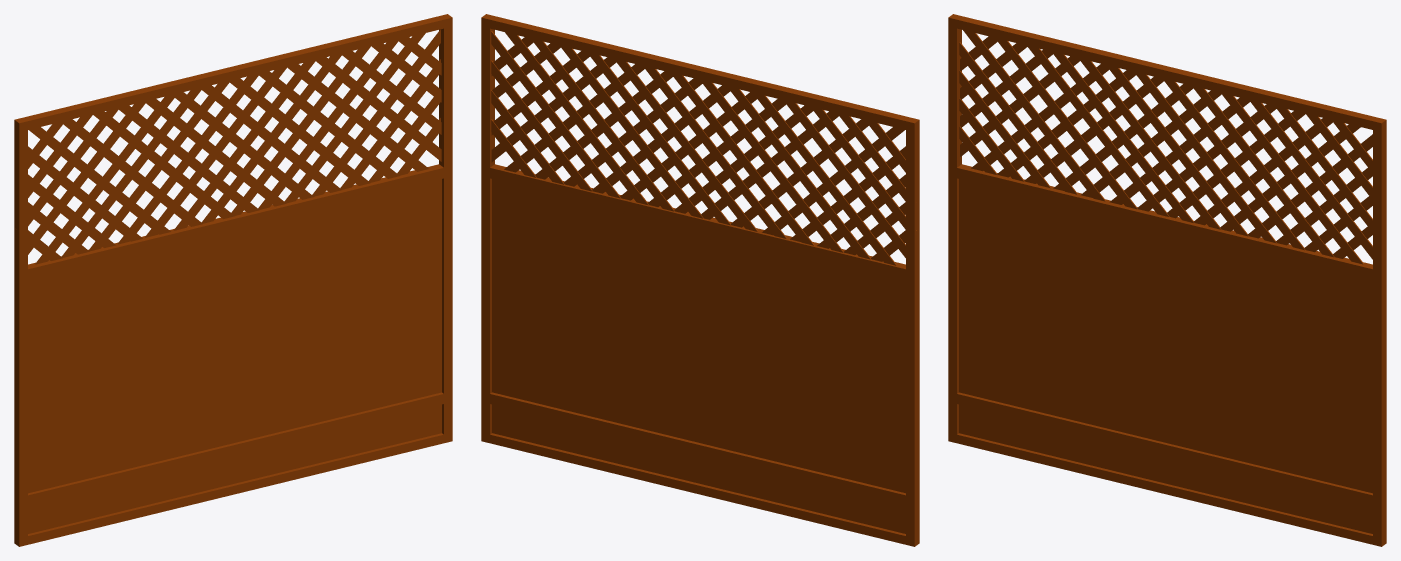
The model's file is vallaFinal.fbx.
3 renders of one model, left to right at view 1: azimuth 30°, elevation 25°; view 2: azimuth 150°, elevation 25°; view 3: azimuth 330°, elevation 25°, orthographic.
Parts seen in each view (by area): view 1: group15_pasted__group14_pasted__pasted__group13_pasted__past; view 2: group15_pasted__group14_pasted__pasted__group13_pasted__past; view 3: group15_pasted__group14_pasted__pasted__group13_pasted__past.
Boxes of the visible parts, x1,y1,x2,y2 form: group15_pasted__group14_pasted__pasted__group13_pasted__past: [14, 14, 452, 546]; group15_pasted__group14_pasted__pasted__group13_pasted__past: [481, 14, 919, 546]; group15_pasted__group14_pasted__pasted__group13_pasted__past: [948, 14, 1386, 546].
Size of the model in its own units: 3.98 by 3.72 by 0.0778.
